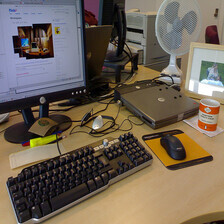laptop: (100, 67, 207, 134)
